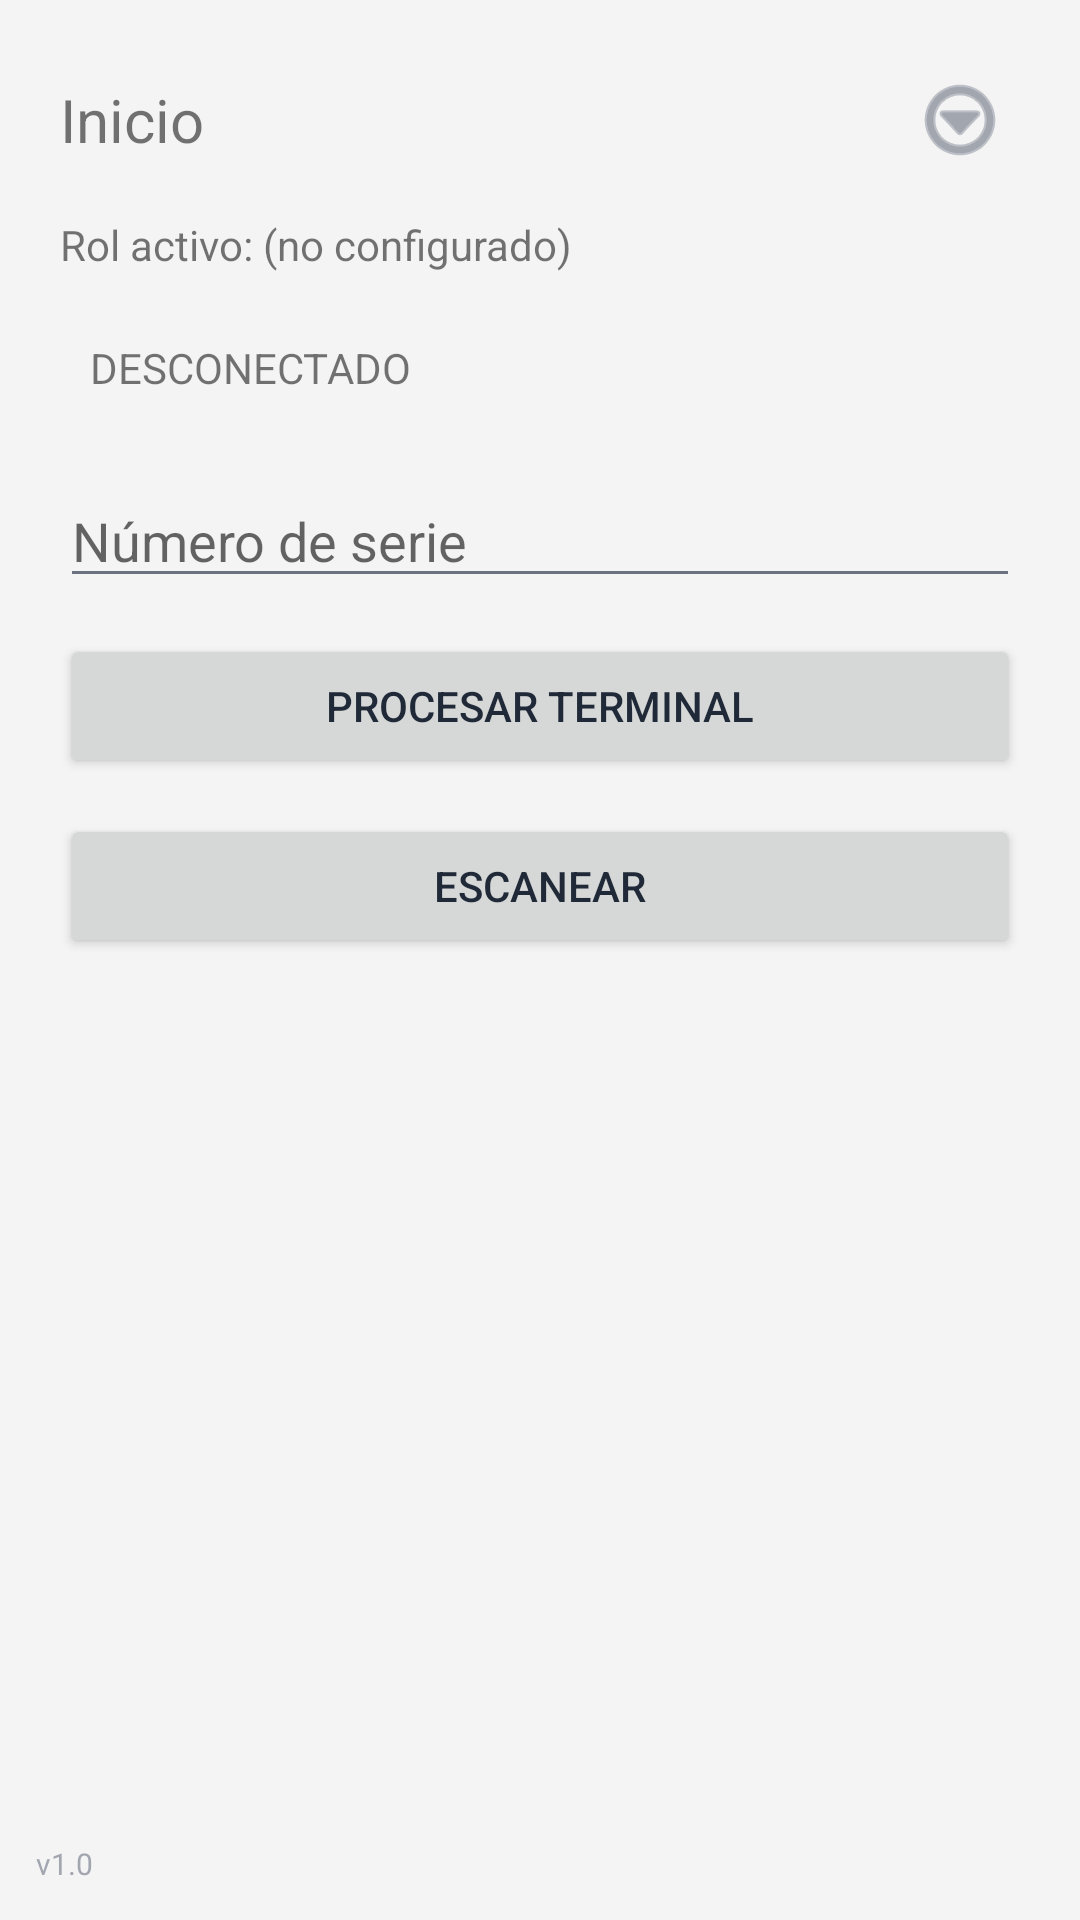

Icons on this 1080×1920 Android screen, each with the point to tap as point (x, y):
Menú: point (960, 120)
